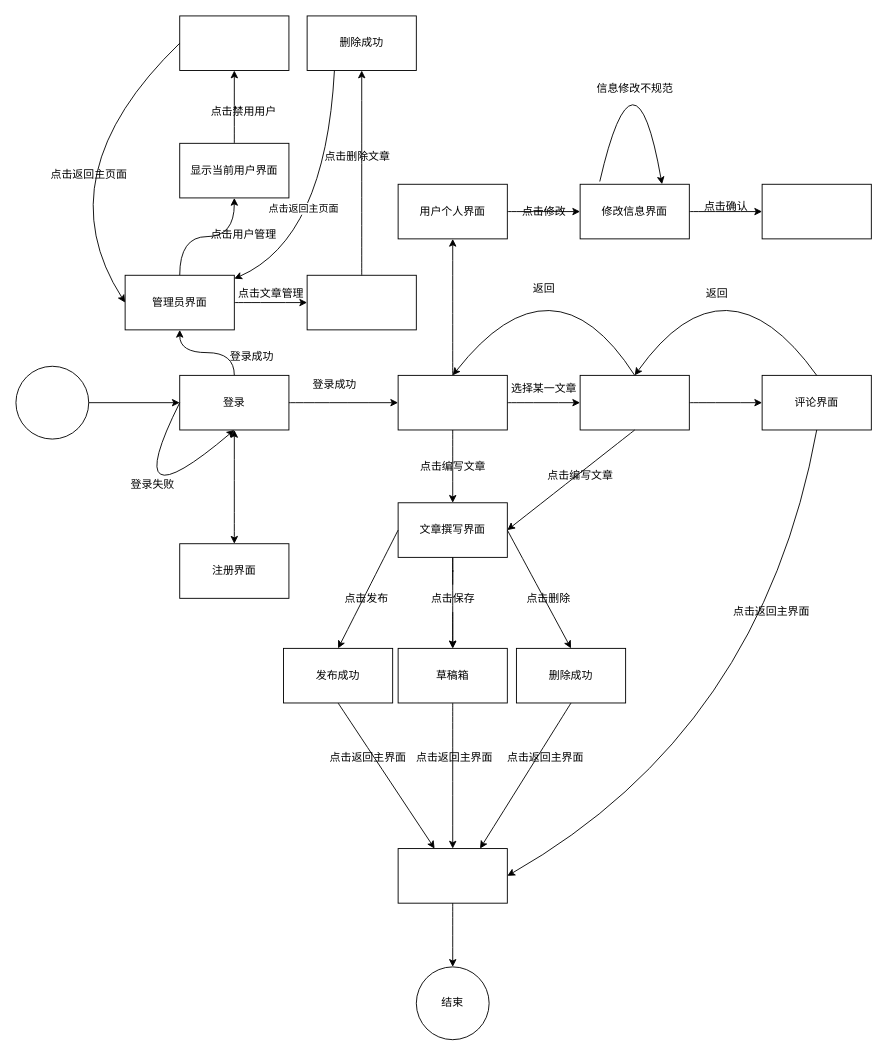
The diagram is 887 pixels wide and 1056 high, and some of its shapes have lost their labels. The box of each missing label's shape, as (x1, y1, x2, y2) in pixels:
博客主界面: (397, 848, 507, 903)
博客主页面: (397, 374, 507, 430)
开始: (15, 365, 89, 439)
文章详情页面: (579, 374, 689, 430)
显示修改成功: (761, 183, 871, 239)
显示当前平台文章: (306, 274, 416, 330)
禁用用户成功: (179, 15, 289, 71)
